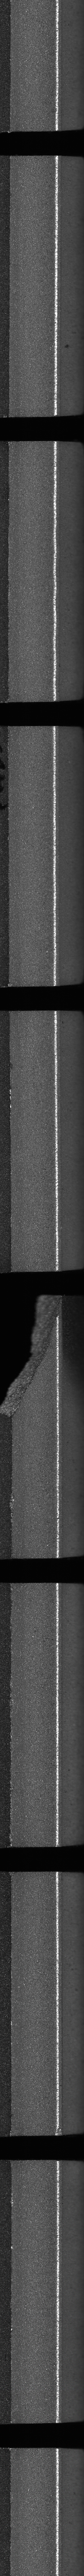Chip: (0, 1291, 63, 1424)
